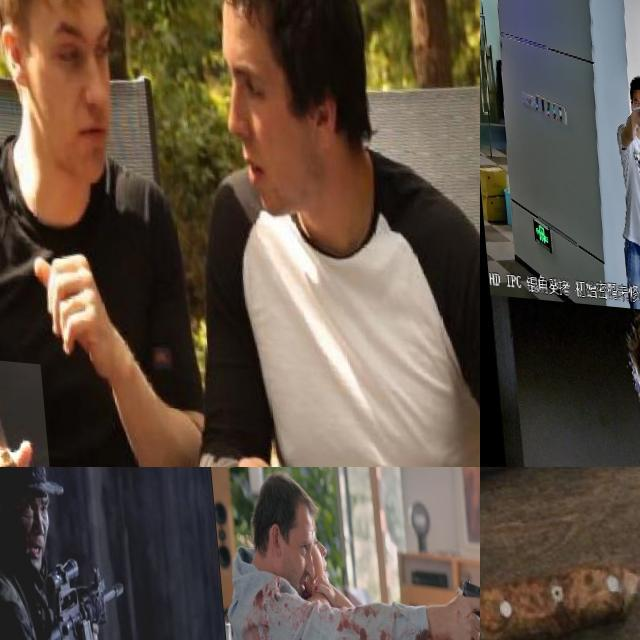-: (480, 467, 640, 640), (480, 561, 640, 640), (0, 355, 45, 467)
gun-knife-thesis - v11 Yolov5 augmented: (0, 467, 203, 604), (15, 545, 121, 640), (440, 558, 480, 640), (274, 467, 337, 508), (628, 99, 640, 159)
